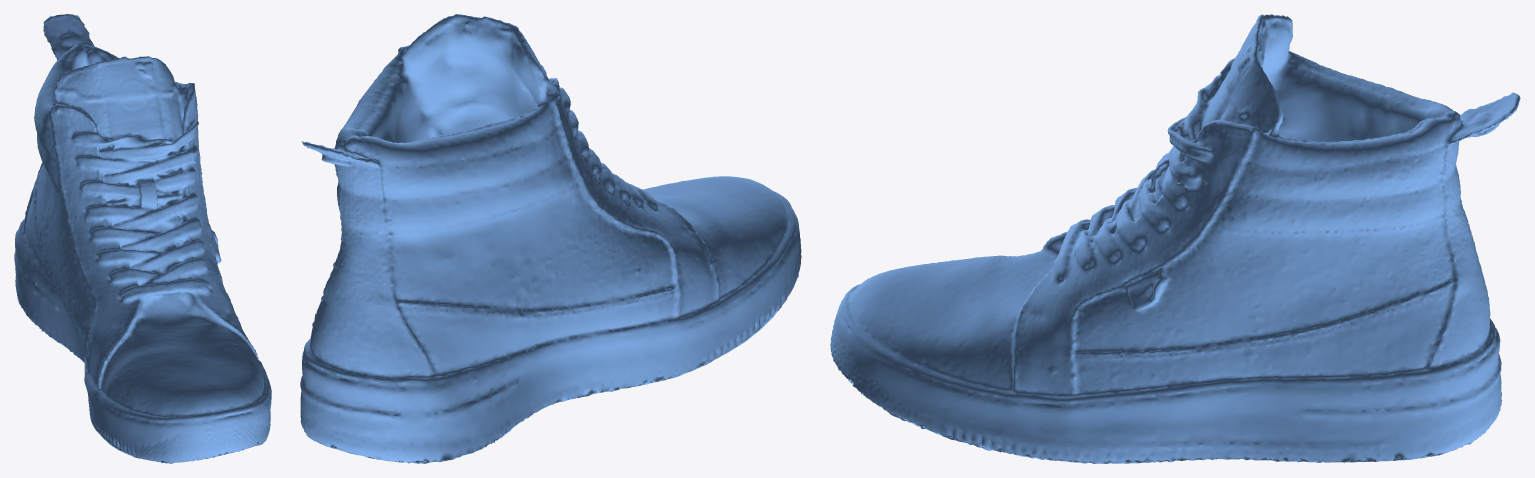
Rendered from football.glb.
The picture shows the model from 3 angles, left to right: view 1: azimuth 30°, elevation 25°; view 2: azimuth 150°, elevation 25°; view 3: azimuth 270°, elevation 25°; orthographic projection. The views are drawn at different scales.
Visible parts, largest first — view 1: poly; view 2: poly; view 3: poly.
Boxes of the visible parts, x1=… form: poly: x1=14, y1=14, x2=271, y2=463; poly: x1=300, y1=14, x2=801, y2=463; poly: x1=830, y1=14, x2=1520, y2=463.
Bounding box in the file's own units: 0.4872 × 0.736 × 1.15.
